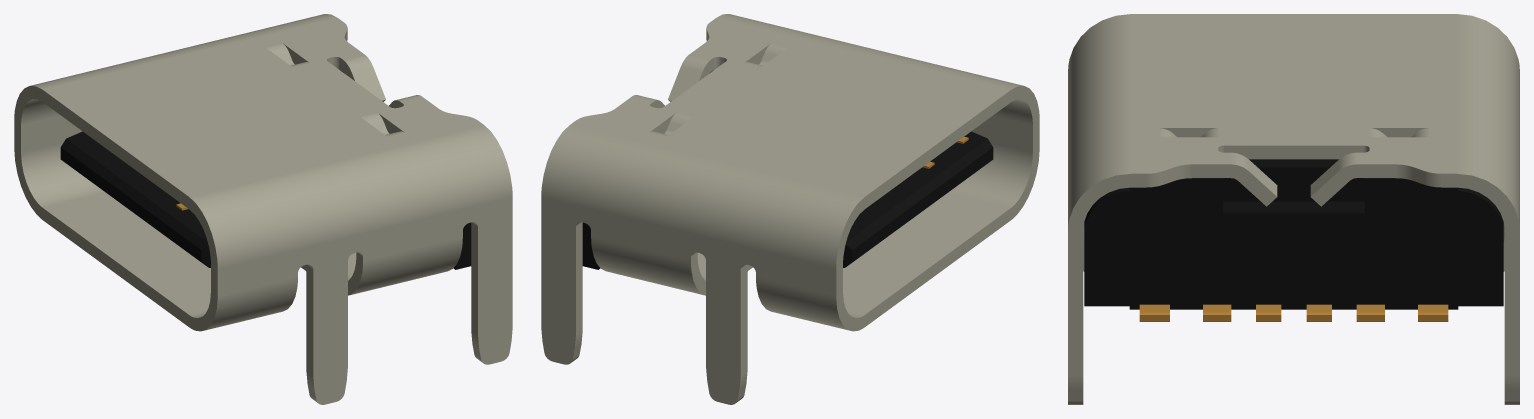
Rendered from J5_USB_C_Receptacle_GCT_USB4125-xx-x-0190_6P_TopMnt_Horizontal.obj.
3 views of the same model, side by side, from view 1: azimuth 30°, elevation 25°; view 2: azimuth 150°, elevation 25°; view 3: azimuth 270°, elevation 25° (orthographic). The views are drawn at different scales.
Visible parts, largest first — view 1: J5; view 2: J5; view 3: J5.
Part boxes in pixels (left/top/right/bottom): J5: left=14, top=14, right=512, bottom=404; J5: left=541, top=14, right=1039, bottom=404; J5: left=1068, top=14, right=1519, bottom=404.
Bounding box in the file's own units: 0.0759 × 0.0516 × 0.0894.
